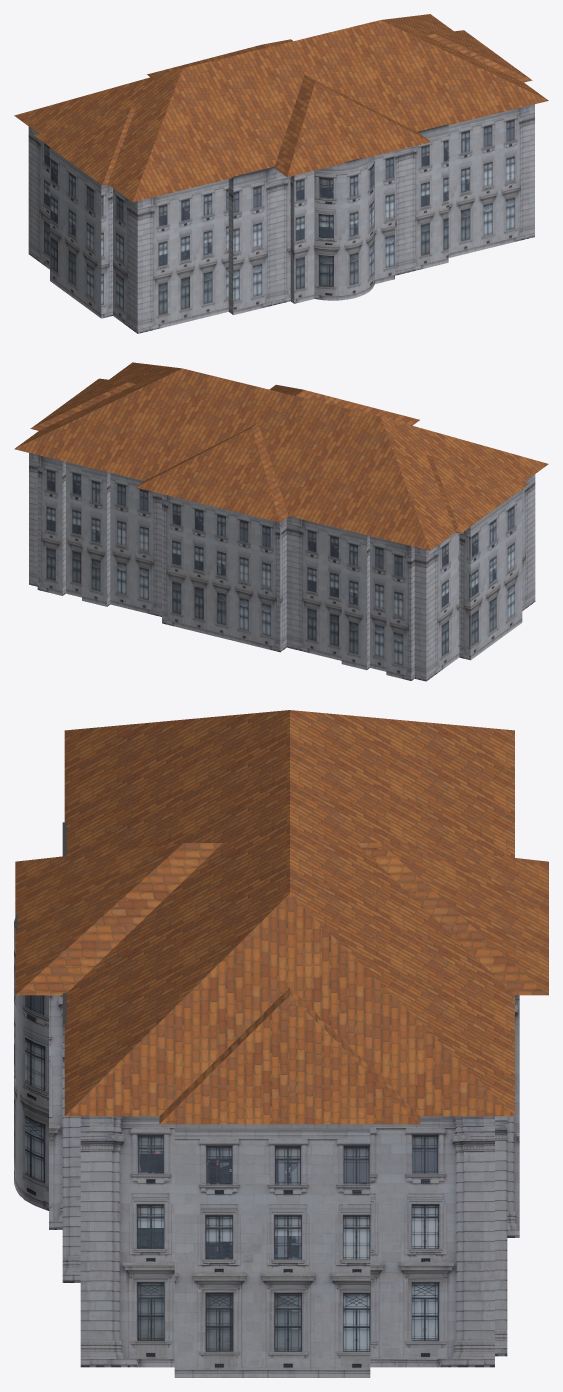
Rendered from builder_15.FBX.
3 views of the same model, one above another, from view 1: azimuth 30°, elevation 25°; view 2: azimuth 150°, elevation 25°; view 3: azimuth 270°, elevation 25° (orthographic). The views are drawn at different scales.
Visible parts, largest first — view 1: builder_15; view 2: builder_15; view 3: builder_15.
Part boxes in pixels (box(x1,y1,x2,y2)): builder_15: box(14, 14, 548, 333); builder_15: box(14, 362, 548, 681); builder_15: box(14, 710, 548, 1377).
Bounding box in the file's own units: 31299 × 13959 × 17738.
